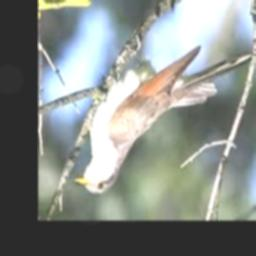Cuckoo: (73, 49, 253, 194)
